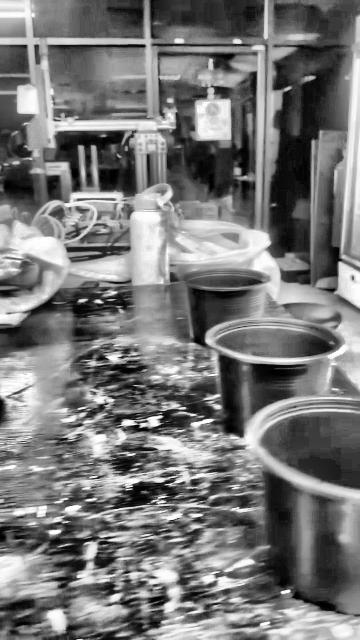pot: (257, 396, 360, 616), (206, 318, 344, 437), (183, 267, 269, 345)
